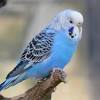budgie: (1, 9, 85, 90)
